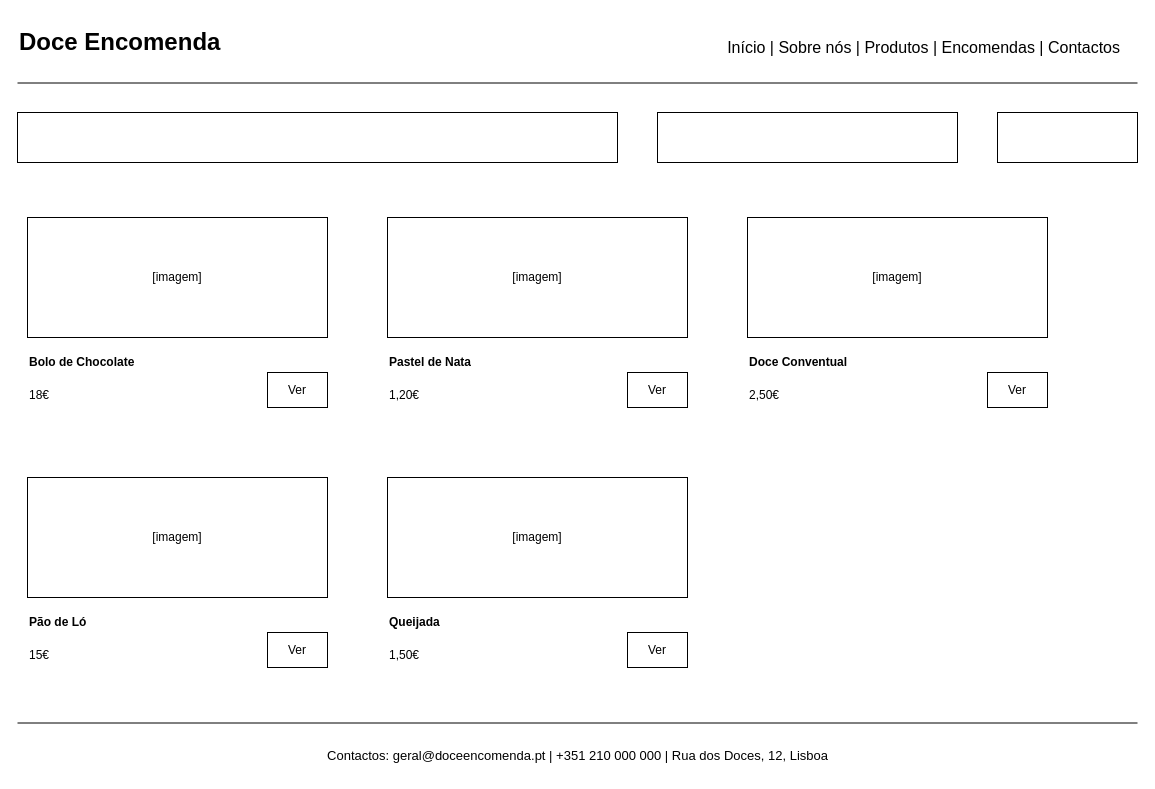
The diagram is 1155 pixels wide and 789 high, and some of its shapes have lost their labels. Each missing label, with the centre of its shape:
"Categoria: Todos ▾" belongs at (x=807, y=137).
"Filtrar" belongs at (x=1067, y=137).
"Pesquisar produtos..." belongs at (x=317, y=137).
